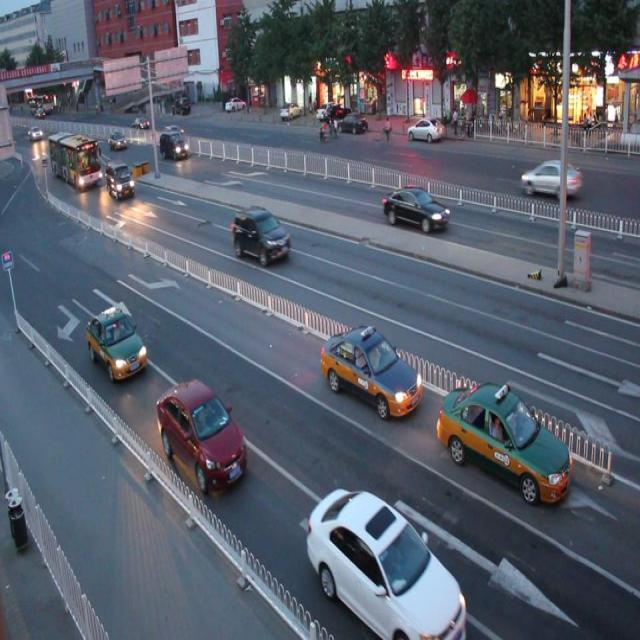car: (306, 482, 469, 640), (436, 378, 572, 500), (155, 376, 245, 493), (319, 325, 422, 418), (87, 308, 148, 384), (384, 184, 449, 236), (231, 208, 289, 266), (518, 158, 580, 201)
